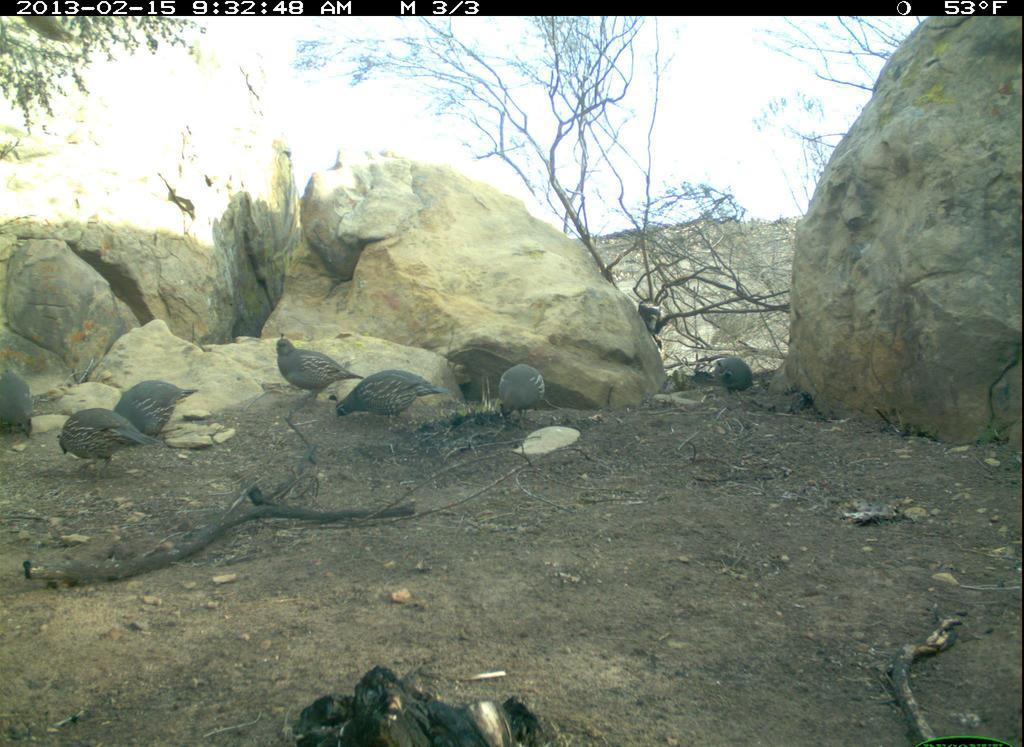bird: (260, 331, 374, 413), (44, 405, 161, 475), (322, 372, 455, 432), (108, 376, 210, 441), (487, 353, 553, 437), (1, 344, 40, 463), (707, 345, 766, 404)
